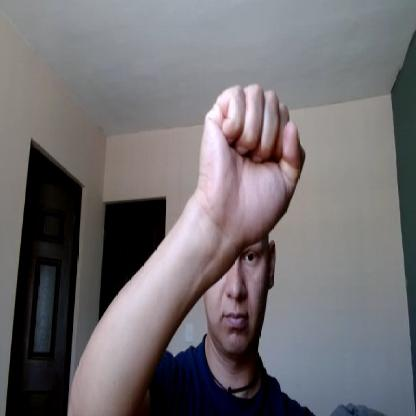S: (196, 81, 307, 242)
